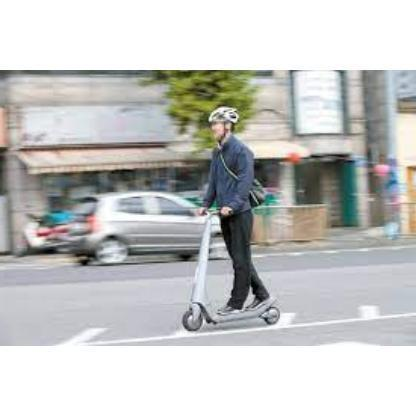with scooter: (182, 106, 281, 332)
